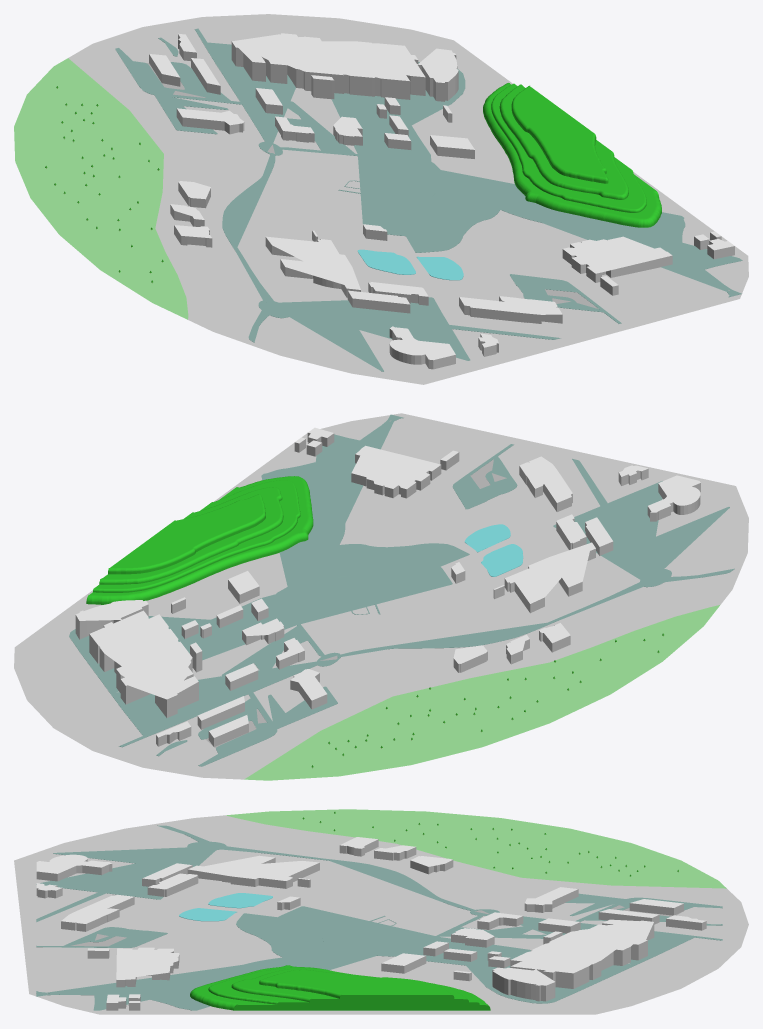
File: EnvironnementCESI_V2.fbx
3 views of the same model, one above another, from view 1: azimuth 30°, elevation 25°; view 2: azimuth 150°, elevation 25°; view 3: azimuth 270°, elevation 25° (orthographic). The views are drawn at different scales.
Parts seen in each view (by area): view 1: Cercle, topoexport_vectorial_SW_559832_6921726_NE_560560_6922337.sv. (×4), topoexport_vectorial_SW_559832_6921726_NE_560560_6922337.sv; view 2: Cercle, topoexport_vectorial_SW_559832_6921726_NE_560560_6922337.sv. (×4), topoexport_vectorial_SW_559832_6921726_NE_560560_6922337.sv; view 3: Cercle, topoexport_vectorial_SW_559832_6921726_NE_560560_6922337.sv. (×4), topoexport_vectorial_SW_559832_6921726_NE_560560_6922337.sv.
Part boxes in pixels (x1,y1,x2,y2): Cercle: (14,14,748,384); topoexport_vectorial_SW_559832_6921726_NE_560560_6922337.sv. (×4): (146,33,734,369); topoexport_vectorial_SW_559832_6921726_NE_560560_6922337.sv: (115,28,742,371); Cercle: (14,413,748,780); topoexport_vectorial_SW_559832_6921726_NE_560560_6922337.sv. (×4): (75,420,700,748); topoexport_vectorial_SW_559832_6921726_NE_560560_6922337.sv: (69,414,734,766); Cercle: (14,809,748,1014); topoexport_vectorial_SW_559832_6921726_NE_560560_6922337.sv. (×4): (36,837,706,1010); topoexport_vectorial_SW_559832_6921726_NE_560560_6922337.sv: (36,825,722,1010).
Bounding box in the file's own units: 22385 × 846 × 33836.
